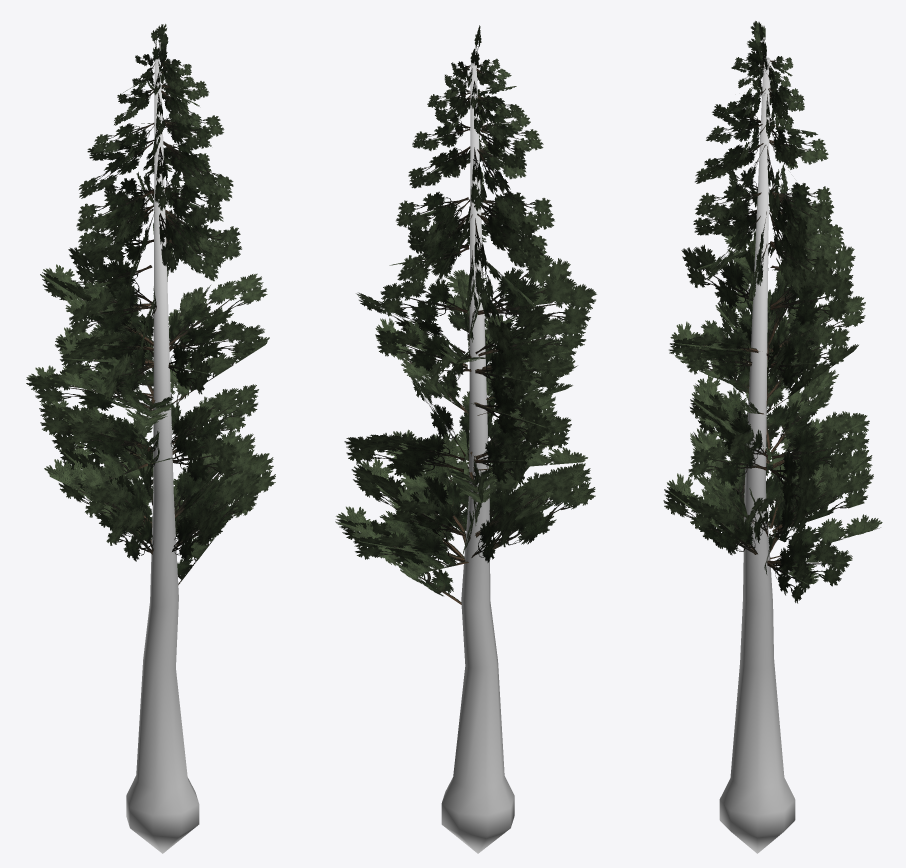
The model's file is Pine_11.fbx.
The picture shows the model from 3 angles, left to right: view 1: azimuth 30°, elevation 25°; view 2: azimuth 150°, elevation 25°; view 3: azimuth 270°, elevation 25°; orthographic projection.
Visible parts, largest first — view 1: polySurface1; view 2: polySurface1; view 3: polySurface1.
Boxes of the visible parts, x1,y1,x2,y2 form: polySurface1: (26, 24, 275, 853); polySurface1: (335, 25, 596, 853); polySurface1: (663, 21, 882, 853).
Bounding box in the file's own units: 5.53 × 16.81 × 4.47.
